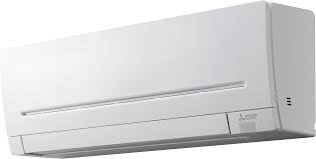ac: (1, 1, 316, 159)
